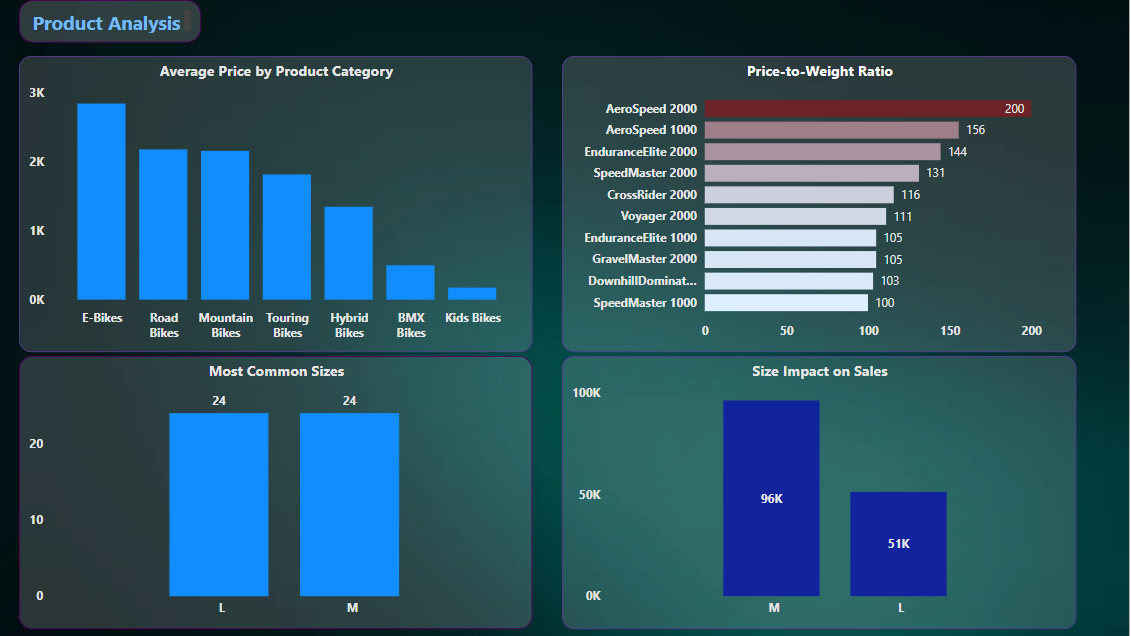

The dashboard page shown, as its layout file describes it:
{"tool":"powerbi","page":{"name":"Product Analysis","canvas":[1280,720],"ordinal":1},"visuals":[{"type":"columnChart","title":"Average Price by Product Category","fields":{"Y":["Sum(salesdb v_averagepricebycategory.AvgPrice)"],"Category":["salesdb v_averagepricebycategory.ProductCategory"]},"box":[28.2,63.2,578.5,333.8],"z":0},{"type":"columnChart","title":"Most Common Sizes","fields":{"Category":["salesdb v_mostcommonsizes.ProductSize"],"Y":["Sum(salesdb v_mostcommonsizes.SizeCount)"]},"box":[28.2,401.5,578.5,307.9],"z":1000},{"type":"barChart","title":"Price-to-Weight Ratio","fields":{"Y":["Sum(salesdb v_pricetoweightratio.PricePerWeight)"],"Category":["salesdb v_pricetoweightratio.ProductName"]},"box":[640.6,63.2,579.7,333.8],"z":1001},{"type":"columnChart","title":"Size Impact on Sales","fields":{"Y":["Sum(salesdb v_sizeimpactonsales.AvgOrderQuantity)","Sum(salesdb v_sizeimpactonsales.TotalRevenue)"],"Category":["salesdb v_sizeimpactonsales.ProductSize"]},"box":[640.6,401.5,579.7,307.9],"z":1002},{"type":"textbox","box":[28.2,0,205.3,48.5],"z":1003}]}

Visuals, with their boxes in screenshot pixels (x1, y1, x2, y2), scaled from the page's 1280x720 canvas onto the 1131x636 screenshot:
"Average Price by Product Category" columnChart: [x1=25, y1=56, x2=536, y2=351]
"Most Common Sizes" columnChart: [x1=25, y1=355, x2=536, y2=627]
"Price-to-Weight Ratio" barChart: [x1=566, y1=56, x2=1078, y2=351]
"Size Impact on Sales" columnChart: [x1=566, y1=355, x2=1078, y2=627]
textbox: [x1=25, y1=0, x2=206, y2=43]
